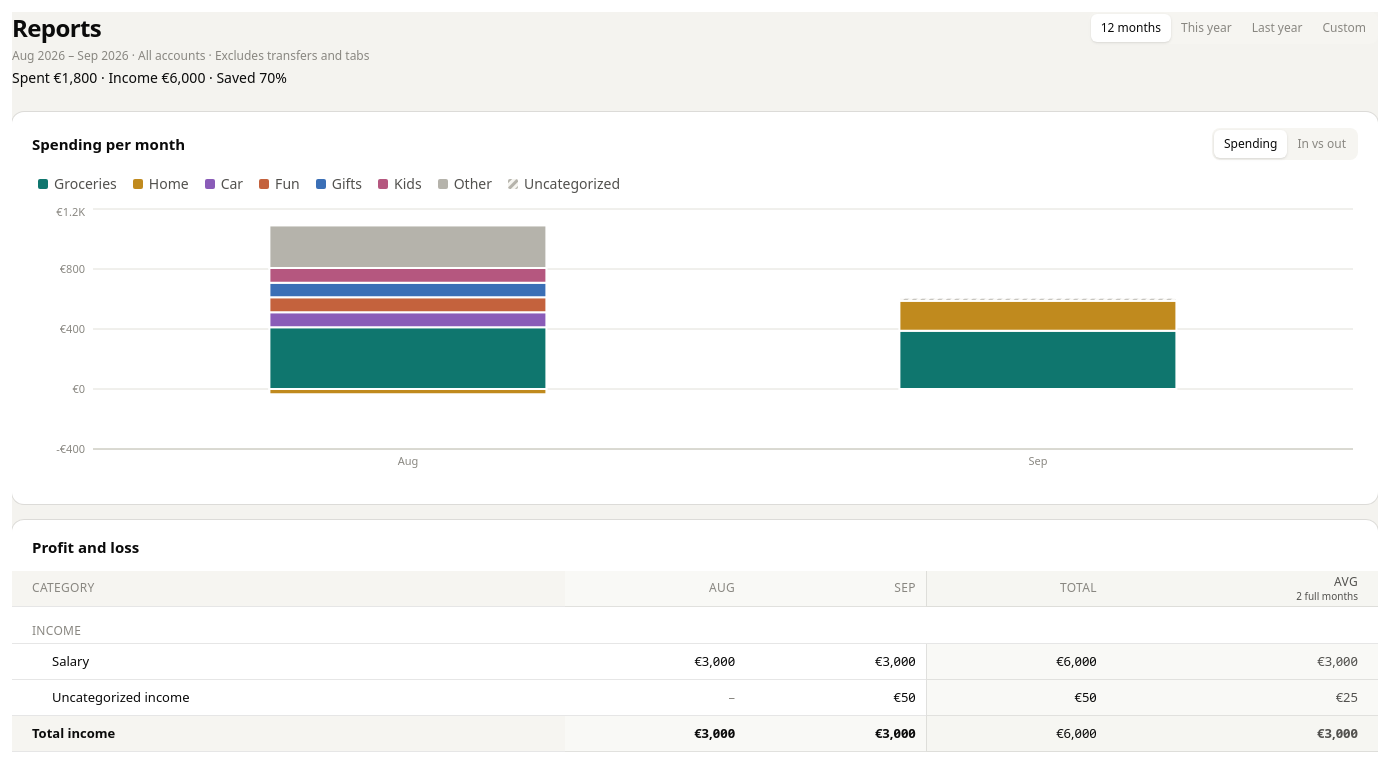
Test: ReportsPage › offers From and To for a custom period
expect the text "All accounts" is shown: met, box x1=129 y1=47 x2=370 y2=64
Click the button "Custom" at (1344, 28), box x1=1312 y1=14 x2=1376 y2=42
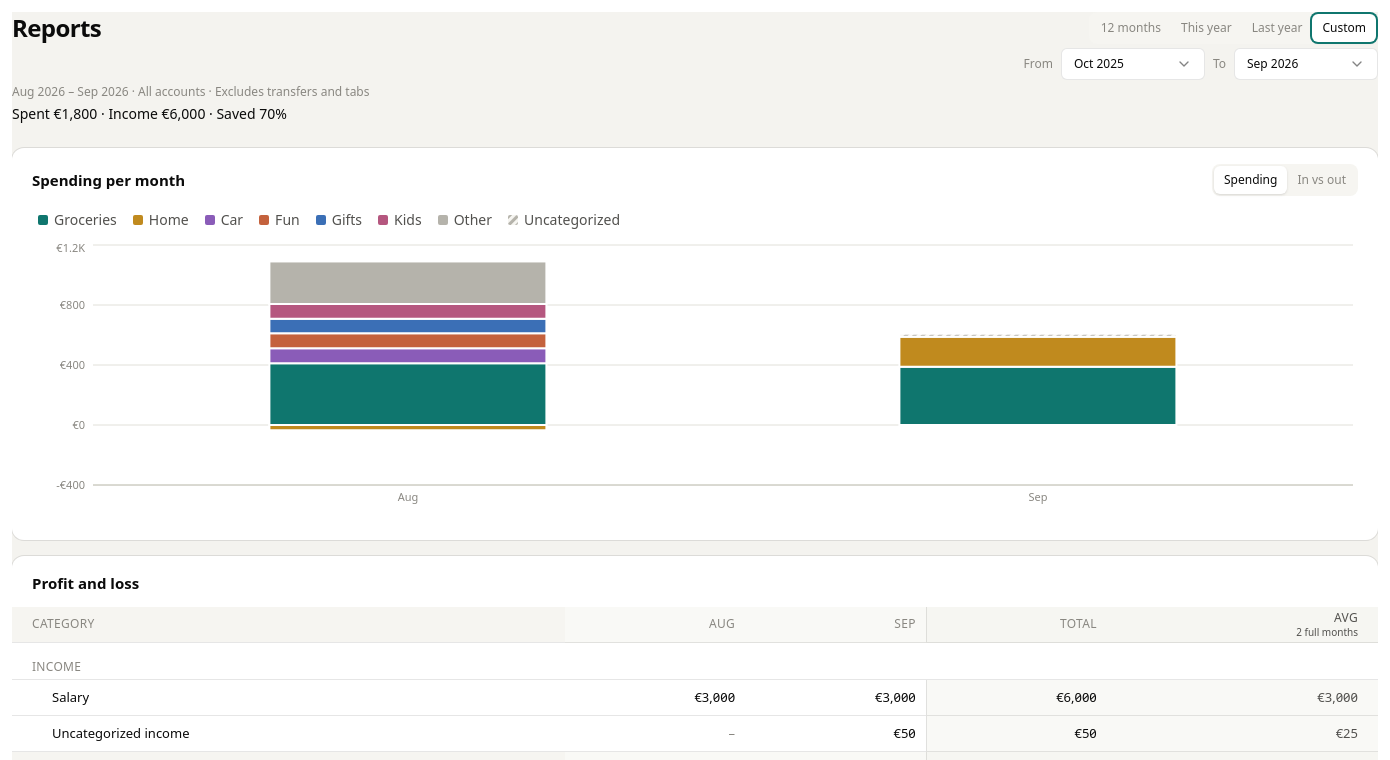
expect the dropdown named "From" is shown: met, box x1=1061 y1=48 x2=1205 y2=80
expect the dropdown named "To" is shown: met, box x1=1234 y1=48 x2=1378 y2=80
